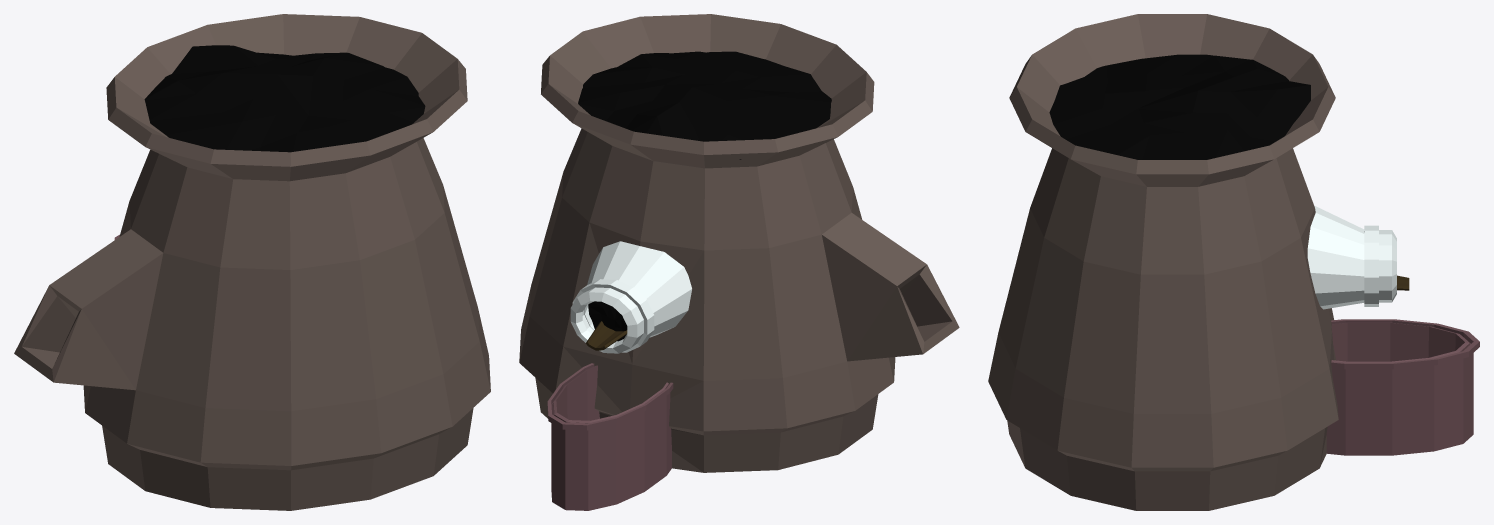
Rendered from OreFurnace.dae.
The picture shows the model from 3 angles, left to right: view 1: azimuth 30°, elevation 25°; view 2: azimuth 150°, elevation 25°; view 3: azimuth 270°, elevation 25°; orthographic projection. The views are drawn at different scales.
Parts seen in each view (by area): view 1: Cylinder, Plane; view 2: Cylinder, Plane, Cylinder.004, Cylinder.001, Plane.001, Cylinder.002; view 3: Cylinder, Plane, Cylinder.004, Cylinder.001.
Boxes of the visible parts, x1,y1,x2,y2 form: Cylinder: [14, 14, 490, 510]; Plane: [144, 45, 425, 152]; Cylinder: [519, 14, 959, 472]; Plane: [578, 51, 831, 159]; Cylinder.004: [547, 363, 673, 510]; Cylinder.001: [570, 241, 691, 353]; Plane.001: [588, 301, 627, 341]; Cylinder.002: [586, 321, 627, 350]; Cylinder: [988, 14, 1338, 510]; Plane: [1049, 54, 1310, 159]; Cylinder.004: [1326, 319, 1479, 455]; Cylinder.001: [1307, 205, 1396, 309].
Bounding box in the file's own units: 1.94 × 1.95 × 1.52.
